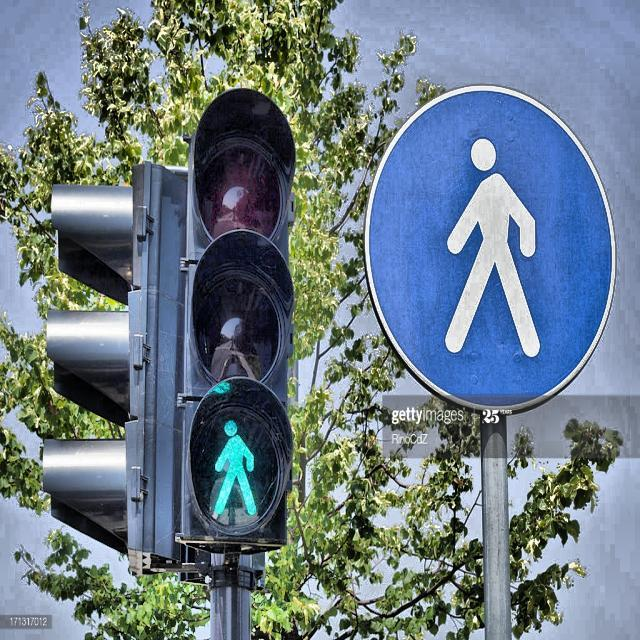green_light: (211, 415, 258, 520)
